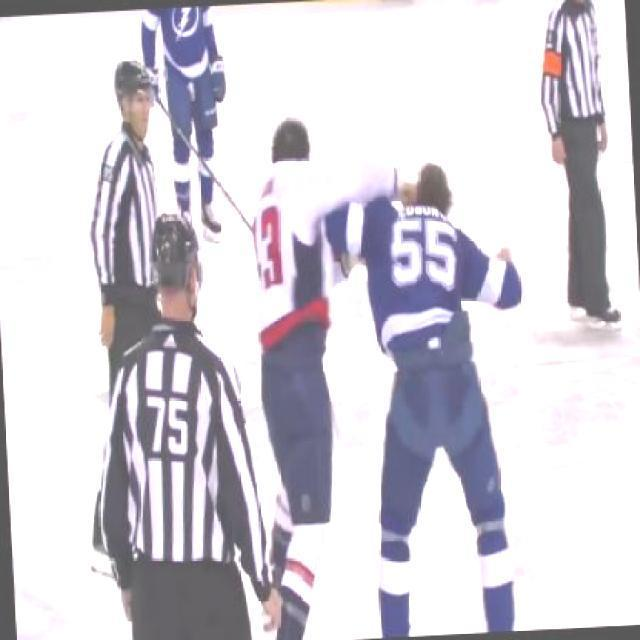fight: (242, 101, 538, 638)
non-fight: (86, 210, 279, 638), (68, 54, 174, 551), (534, 0, 624, 337)
